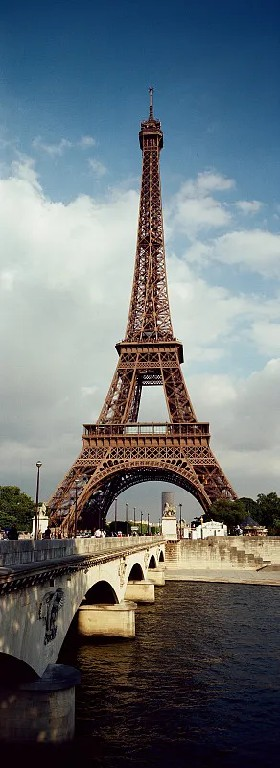Eiffel: (45, 88, 258, 537)
